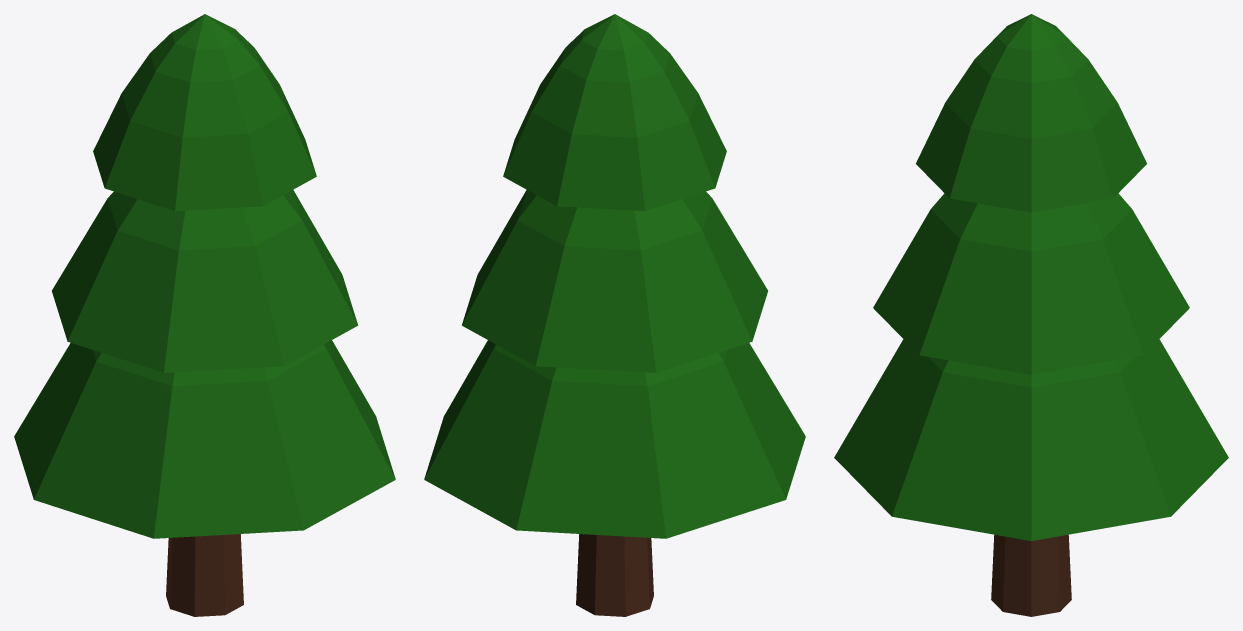
File: Spruce_01.fbx
3 views of the same model, side by side, from view 1: azimuth 30°, elevation 25°; view 2: azimuth 150°, elevation 25°; view 3: azimuth 270°, elevation 25° (orthographic).
Visible parts, largest first — view 1: tree2.001; view 2: tree2.001; view 3: tree2.001.
Boxes of the visible parts, x1,y1,x2,y2 form: tree2.001: (14, 14, 395, 616); tree2.001: (424, 14, 805, 616); tree2.001: (834, 14, 1228, 616).
Bounding box in the file's own units: 300 × 492 × 300.
